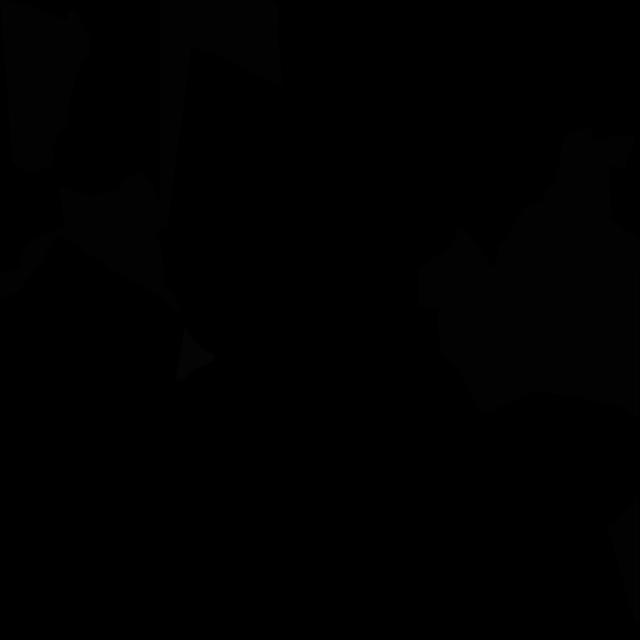cardboard: (418, 126, 640, 420), (160, 0, 283, 231), (0, 171, 180, 313), (0, 0, 90, 173), (607, 492, 639, 624)
soft_plastic: (176, 326, 215, 381)
